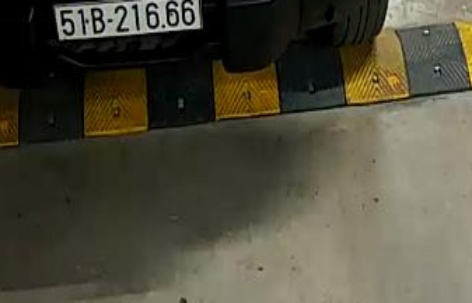plate: (49, 0, 205, 36)
